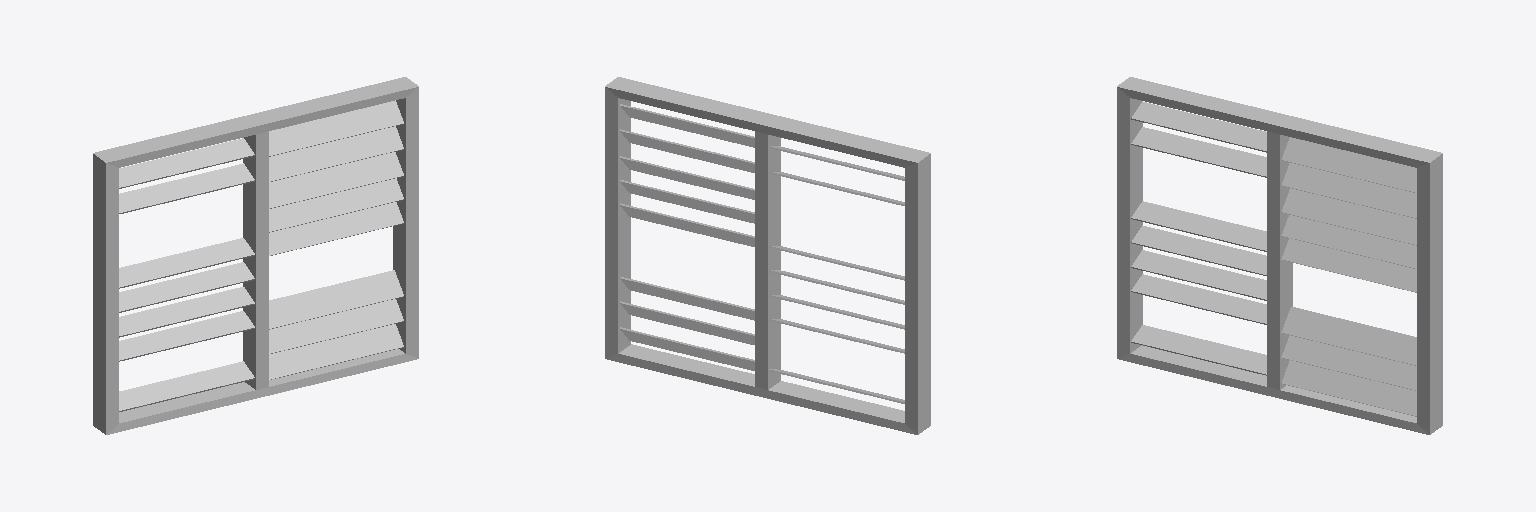
The model's file is window002.obj.
3 renders of one model, left to right at view 1: azimuth 30°, elevation 25°; view 2: azimuth 150°, elevation 25°; view 3: azimuth 330°, elevation 25°, orthographic.
Parts seen in each view (by area): view 1: window.002_Cube.006; view 2: window.002_Cube.006; view 3: window.002_Cube.006.
Boxes of the visible parts, x1,y1,x2,y2 form: window.002_Cube.006: [93, 77, 418, 434]; window.002_Cube.006: [605, 77, 930, 434]; window.002_Cube.006: [1117, 77, 1442, 434].
Bounding box in the file's own units: 3.39 × 2.81 × 0.2548.